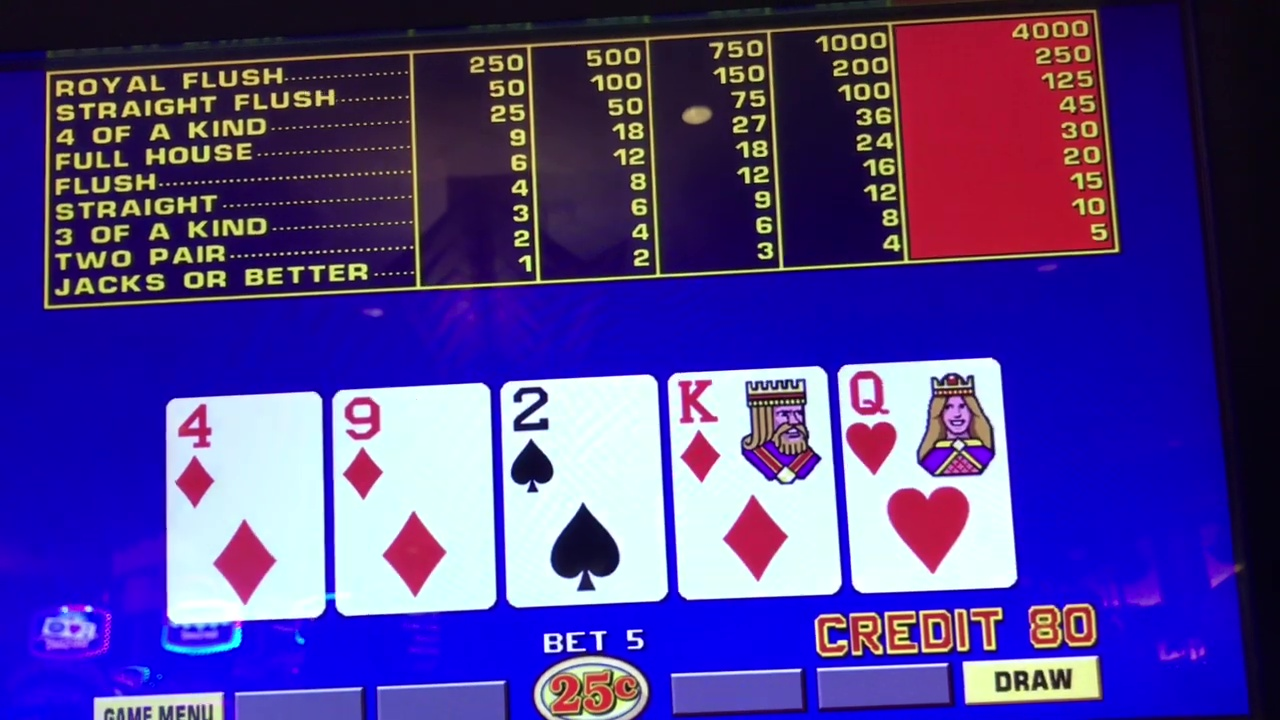D4: (174, 398, 315, 619)
D9: (337, 390, 487, 609)
DK: (676, 375, 830, 594)
HQ: (846, 365, 996, 588)
S2: (509, 382, 658, 600)
